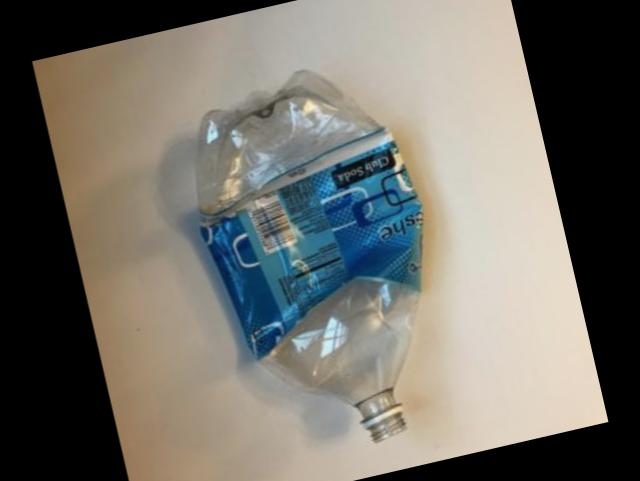plastic: (195, 72, 420, 441)
